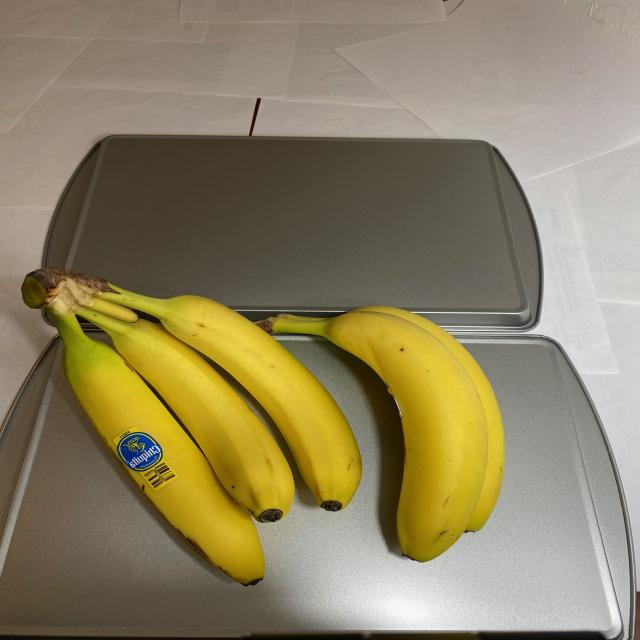banana: (16, 266, 512, 590)
